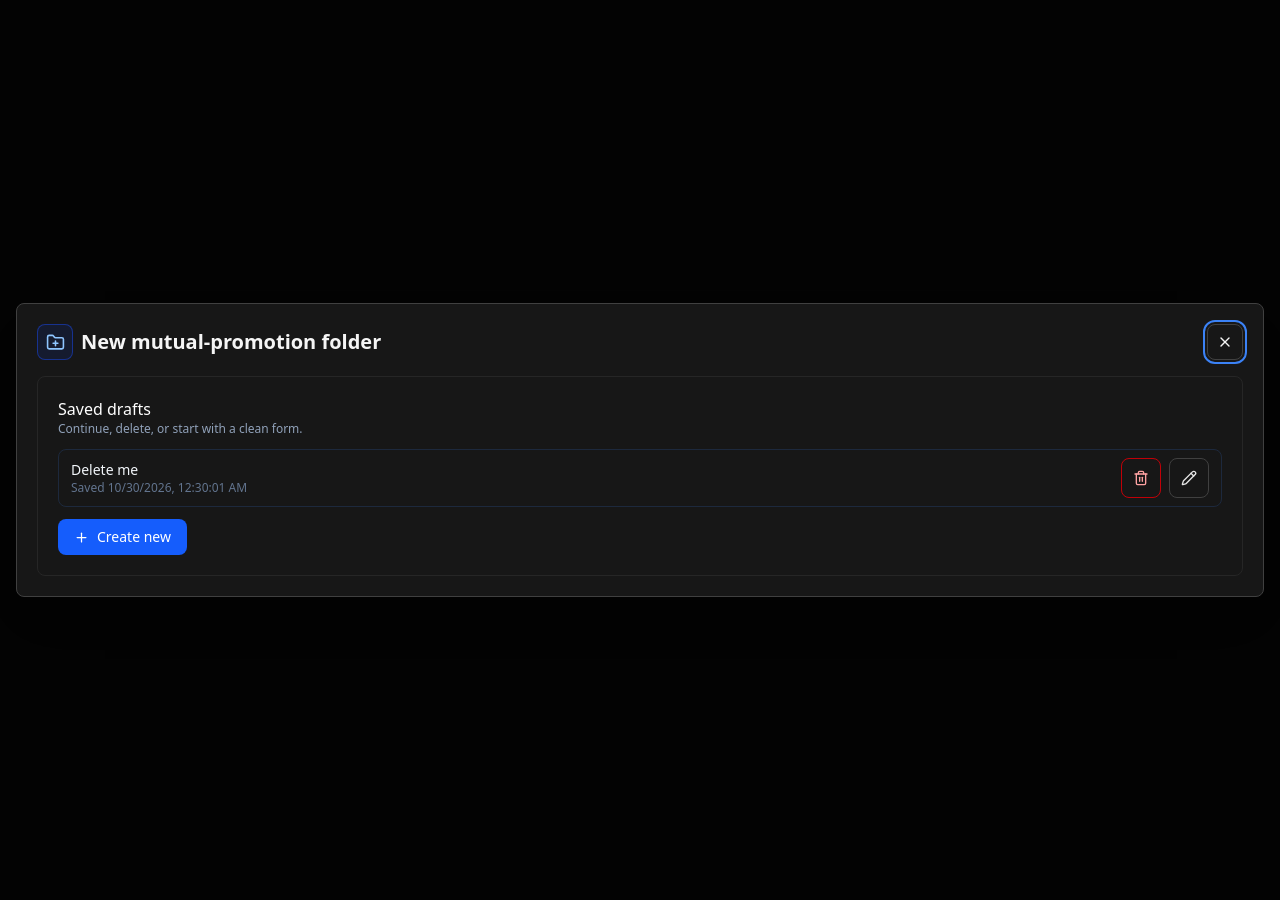
MutualPromotionFolderFormModal drafts › deletes a draft without opening it
What coordinates should you click on to do the following:
click the button named "Delete draft Delete me"
I would click on:
 (1141, 478)
Its box is [1121, 458, 1161, 498].
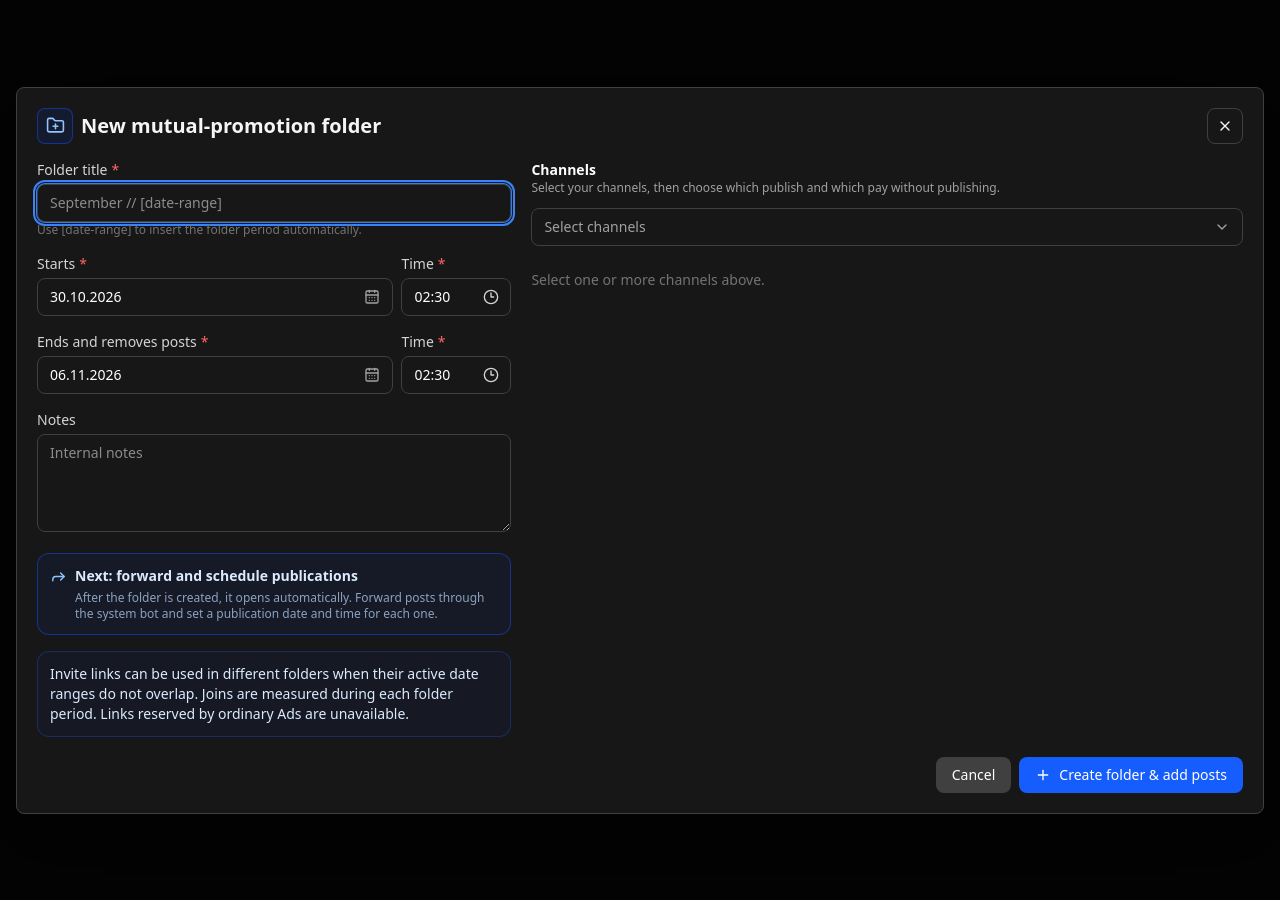
Result: the field with placeholder "September // [date-range]" is shown at [37, 184, 511, 222]
